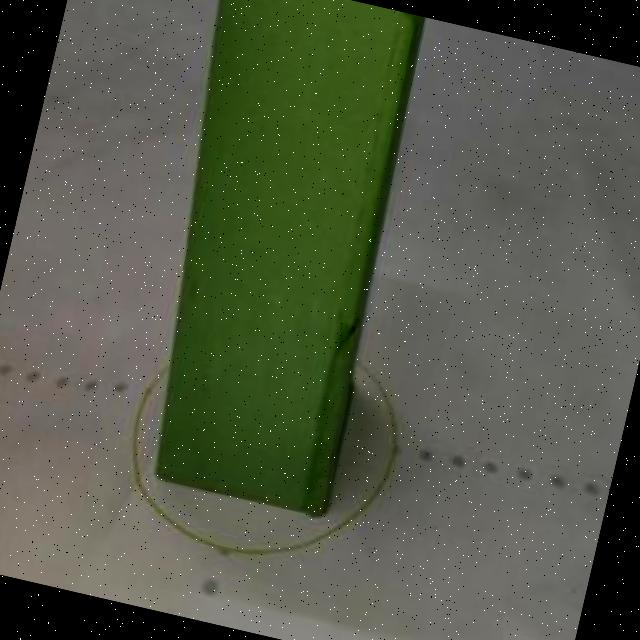greenbox: (105, 0, 437, 518)
